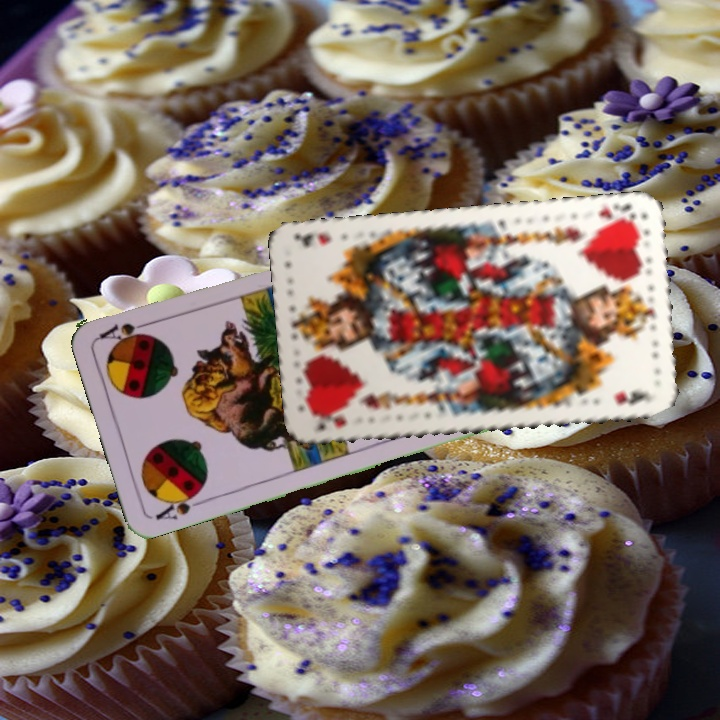HK: (594, 200, 639, 228), (308, 411, 350, 433)
SA: (151, 486, 208, 523)
